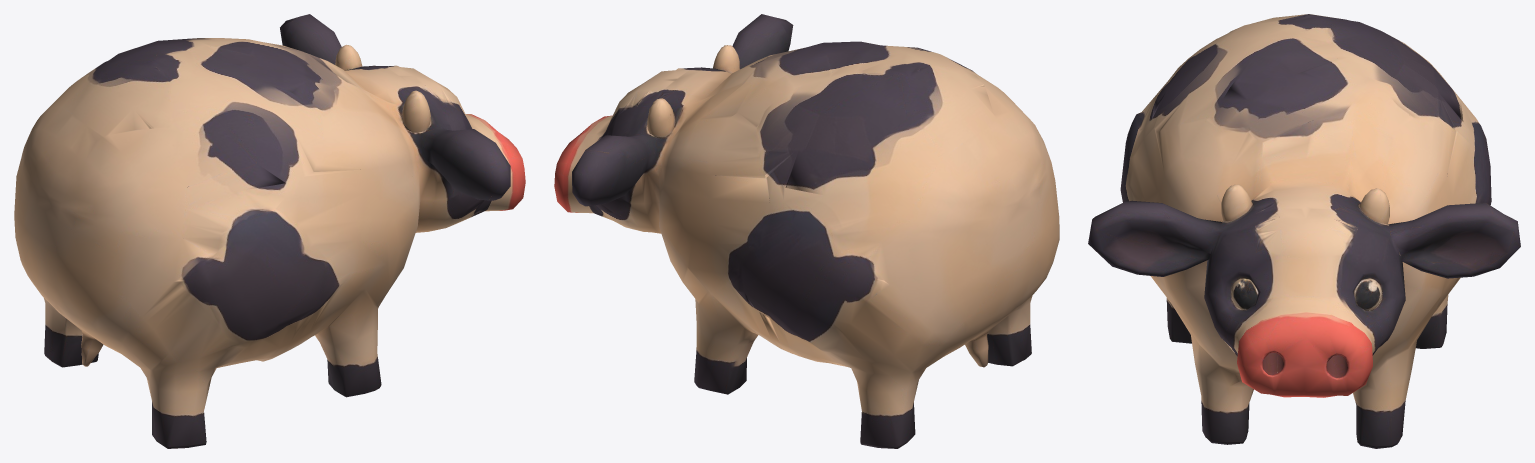
3 views of the same model, side by side, from view 1: azimuth 30°, elevation 25°; view 2: azimuth 150°, elevation 25°; view 3: azimuth 270°, elevation 25° (orthographic). The views are drawn at different scales.
Parts seen in each view (by area): view 1: tripo_node_b14dca21-bce1-4c2b-ade7-b4d0d4670197; view 2: tripo_node_b14dca21-bce1-4c2b-ade7-b4d0d4670197; view 3: tripo_node_b14dca21-bce1-4c2b-ade7-b4d0d4670197.
Boxes of the visible parts, x1,y1,x2,y2 form: tripo_node_b14dca21-bce1-4c2b-ade7-b4d0d4670197: (14,14,525,448); tripo_node_b14dca21-bce1-4c2b-ade7-b4d0d4670197: (554,14,1059,448); tripo_node_b14dca21-bce1-4c2b-ade7-b4d0d4670197: (1088,14,1520,448).
Bounding box in the file's own units: 0.998 × 0.7012 × 0.8066.
Materials: 1 (1 with a texture image).
